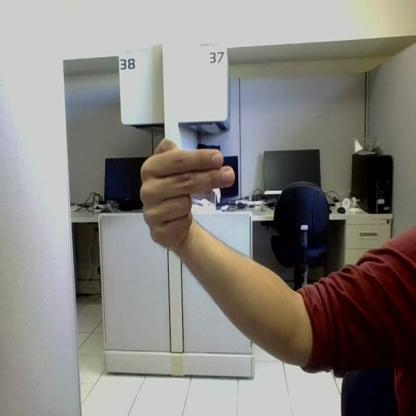H: (141, 139, 234, 249)
